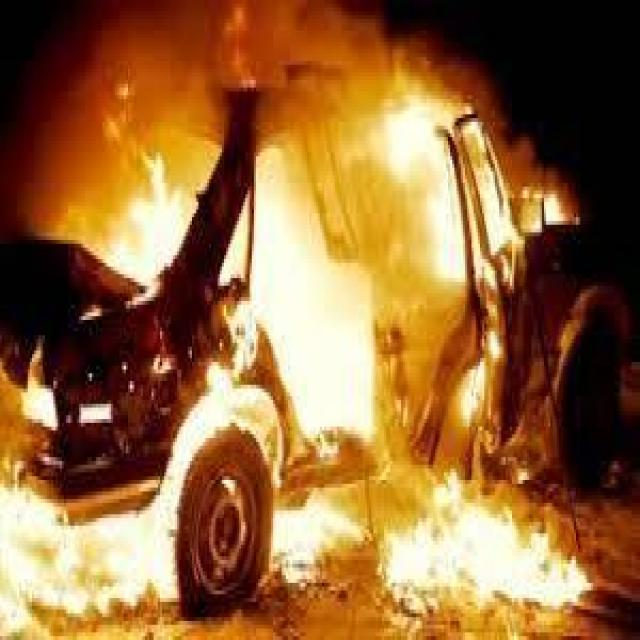fire: (0, 29, 593, 626)
